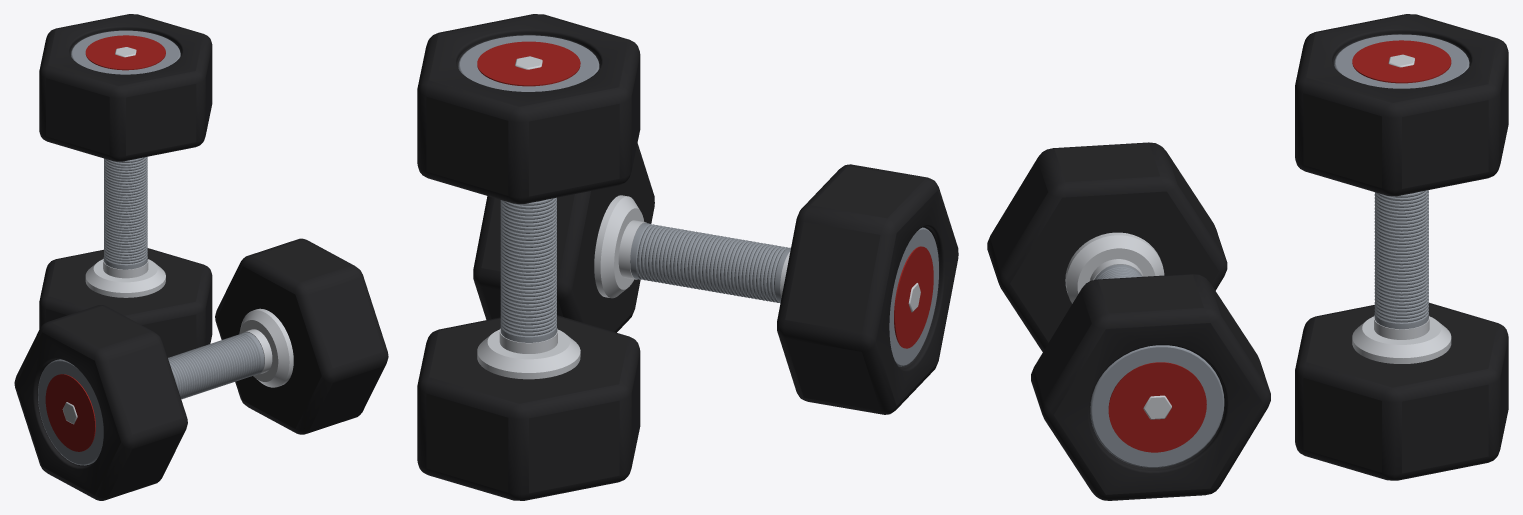
File: exercise-weights.glb
3 renders of one model, left to right at view 1: azimuth 30°, elevation 25°; view 2: azimuth 150°, elevation 25°; view 3: azimuth 270°, elevation 25°, orthographic. The views are drawn at different scales.
Parts seen in each view (by area): view 1: lying_head, lying_grip, cyl.001, lathe, cyl, cyl.002; view 2: lying_head, lying_grip, cyl.001, lathe, cyl, cyl.002; view 3: lying_head, cyl.001, cyl, lying_grip, lathe, cyl.002.
Boxes of the visible parts, x1,y1,x2,y2 form: lying_head: (14, 14, 388, 500); lying_grip: (103, 156, 264, 399); cyl.001: (45, 35, 165, 451); lathe: (85, 259, 293, 387); cyl: (38, 30, 180, 465); cyl.002: (62, 47, 272, 424); lying_head: (417, 14, 958, 500); lying_grip: (500, 197, 790, 342); cyl.001: (477, 41, 933, 348); lathe: (477, 195, 644, 379); cyl: (458, 35, 938, 366); cyl.002: (499, 56, 920, 353); lying_head: (987, 14, 1508, 500); cyl.001: (1108, 40, 1451, 452); cyl: (1090, 34, 1469, 467); lying_grip: (1094, 190, 1428, 329); lathe: (1065, 232, 1451, 363); cyl.002: (1090, 54, 1429, 419).
Size of the model in its own units: 0.2673 by 0.252 by 0.3155.
